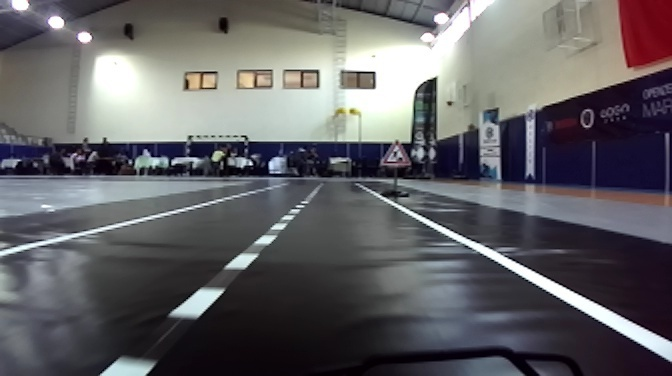yol_yapimi: (377, 138, 413, 166)
